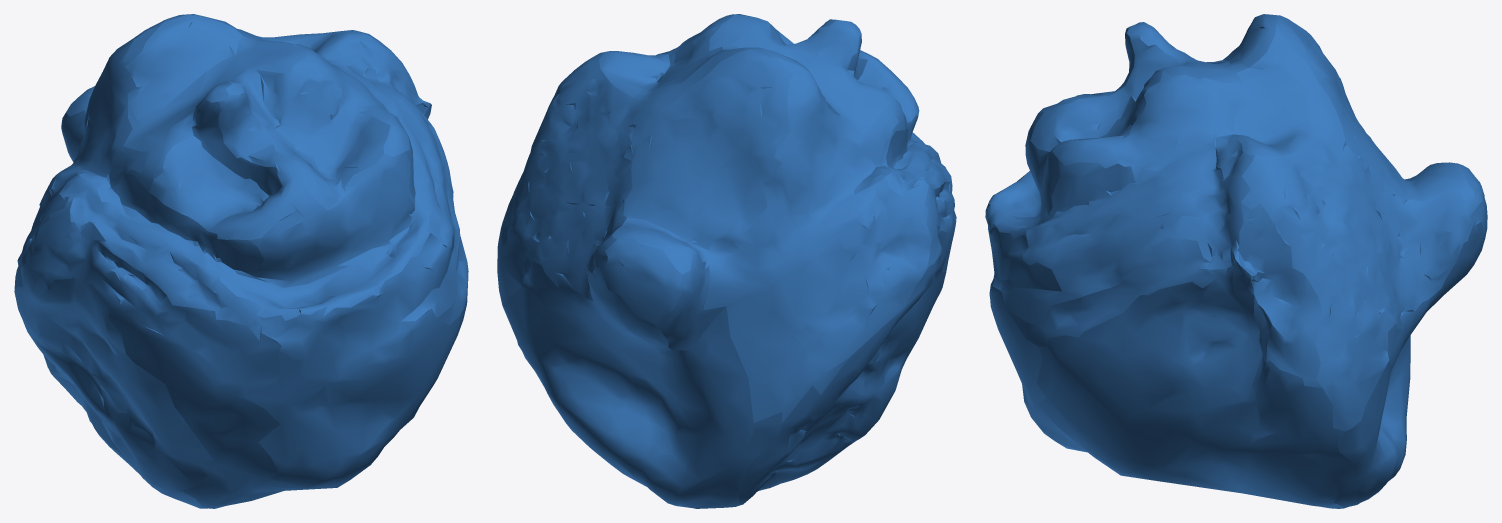
File: heade).fbx
3 renders of one model, left to right at view 1: azimuth 30°, elevation 25°; view 2: azimuth 150°, elevation 25°; view 3: azimuth 270°, elevation 25°, orthographic. The views are drawn at different scales.
Visible parts, largest first — view 1: Polygon; view 2: Polygon; view 3: Polygon.
Part boxes in pixels (left/top/right/bottom): Polygon: left=14, top=14, right=468, bottom=508; Polygon: left=497, top=14, right=956, bottom=508; Polygon: left=985, top=14, right=1487, bottom=508.
Size of the model in its own units: 4.75 by 5.03 by 4.99.
